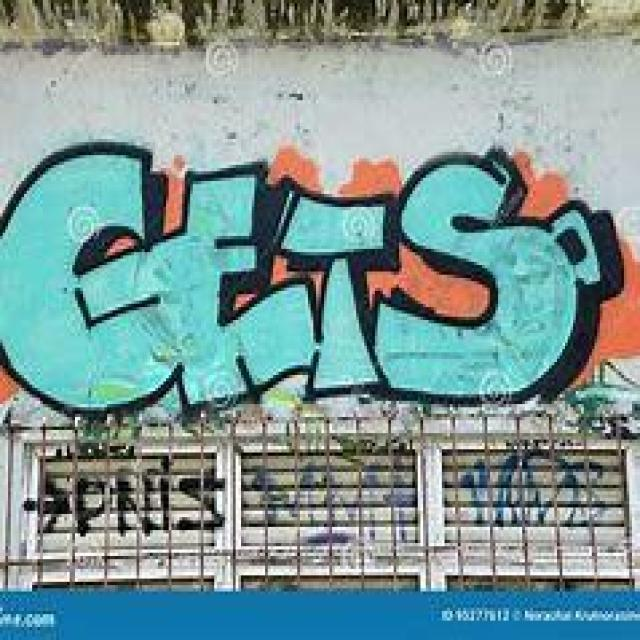nonspitting: (0, 138, 623, 420), (21, 472, 226, 535), (254, 465, 416, 543), (460, 449, 606, 526)
